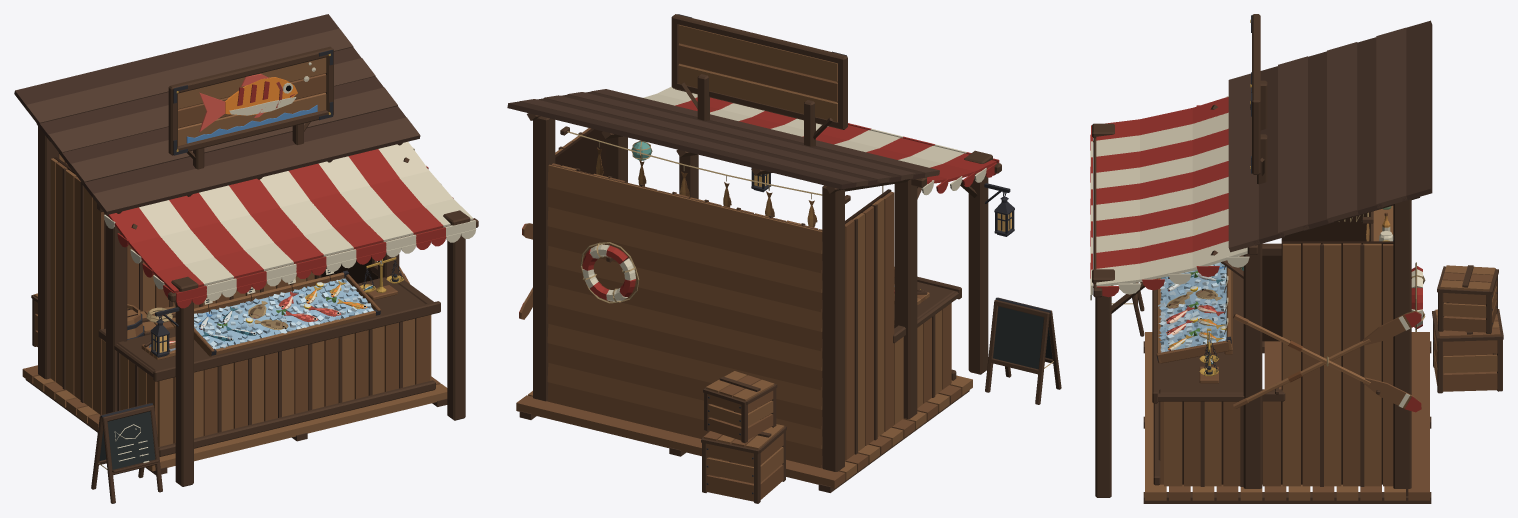
Rendered from MarketStall.obj.
3 views of the same model, side by side, from view 1: azimuth 30°, elevation 25°; view 2: azimuth 150°, elevation 25°; view 3: azimuth 270°, elevation 25° (orthographic). The views are drawn at different scales.
Parts seen in each view (by area): view 1: MarketStall; view 2: MarketStall; view 3: MarketStall.
Boxes of the visible parts, x1,y1,x2,y2 form: MarketStall: [14, 14, 478, 503]; MarketStall: [507, 14, 1061, 503]; MarketStall: [1090, 14, 1503, 503].
Bounding box in the file's own units: 4.06 × 3.54 × 3.6.
